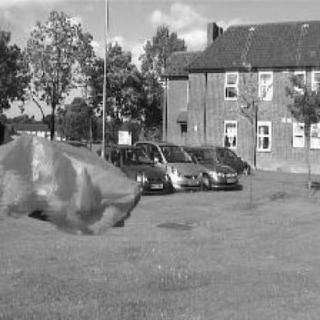other: (0, 118, 144, 243)
